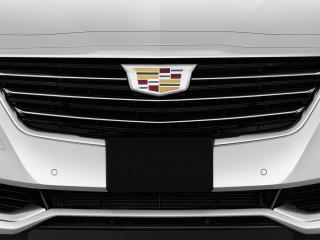cadillac: (118, 55, 202, 102)
